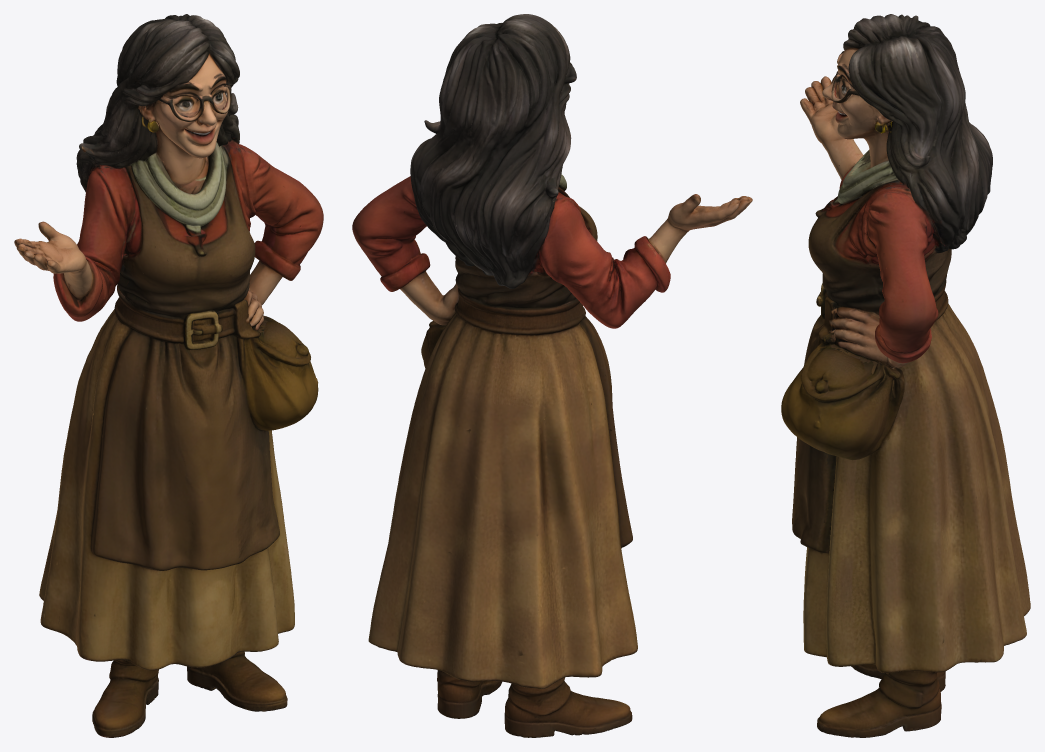
Rendered from Meshy_AI_ChatGPT_Image_Oct_26_2025_12_11_09_PM_20251108_texture.glb.
3 renders of one model, left to right at view 1: azimuth 30°, elevation 25°; view 2: azimuth 150°, elevation 25°; view 3: azimuth 270°, elevation 25°, orthographic.
Size of the model in its own units: 1.01 by 1.9 by 0.6334.
1 material, 1 textured.
